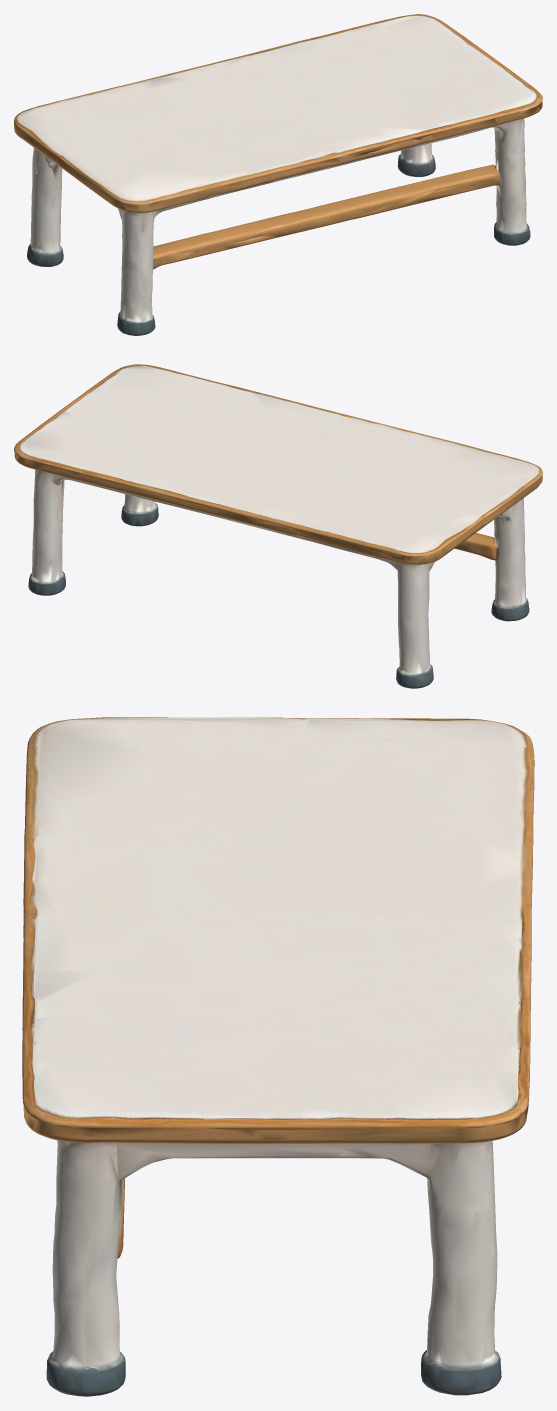
Rendered from craft-table.medium.glb.
The picture shows the model from 3 angles, top to bottom: view 1: azimuth 30°, elevation 25°; view 2: azimuth 150°, elevation 25°; view 3: azimuth 270°, elevation 25°; orthographic projection. The views are drawn at different scales.
Visible parts, largest first — view 1: tripo_node_040dea08-ea7b-47ad-a03e-5abffffe8451; view 2: tripo_node_040dea08-ea7b-47ad-a03e-5abffffe8451; view 3: tripo_node_040dea08-ea7b-47ad-a03e-5abffffe8451.
Part boxes in pixels (<box>): tripo_node_040dea08-ea7b-47ad-a03e-5abffffe8451: <box>14,14,542,335</box>; tripo_node_040dea08-ea7b-47ad-a03e-5abffffe8451: <box>14,364,542,688</box>; tripo_node_040dea08-ea7b-47ad-a03e-5abffffe8451: <box>22,717,534,1396</box>.
Size of the model in its own units: 2.3 by 0.7496 by 1.2.
Materials: 1 (1 with a texture image).
